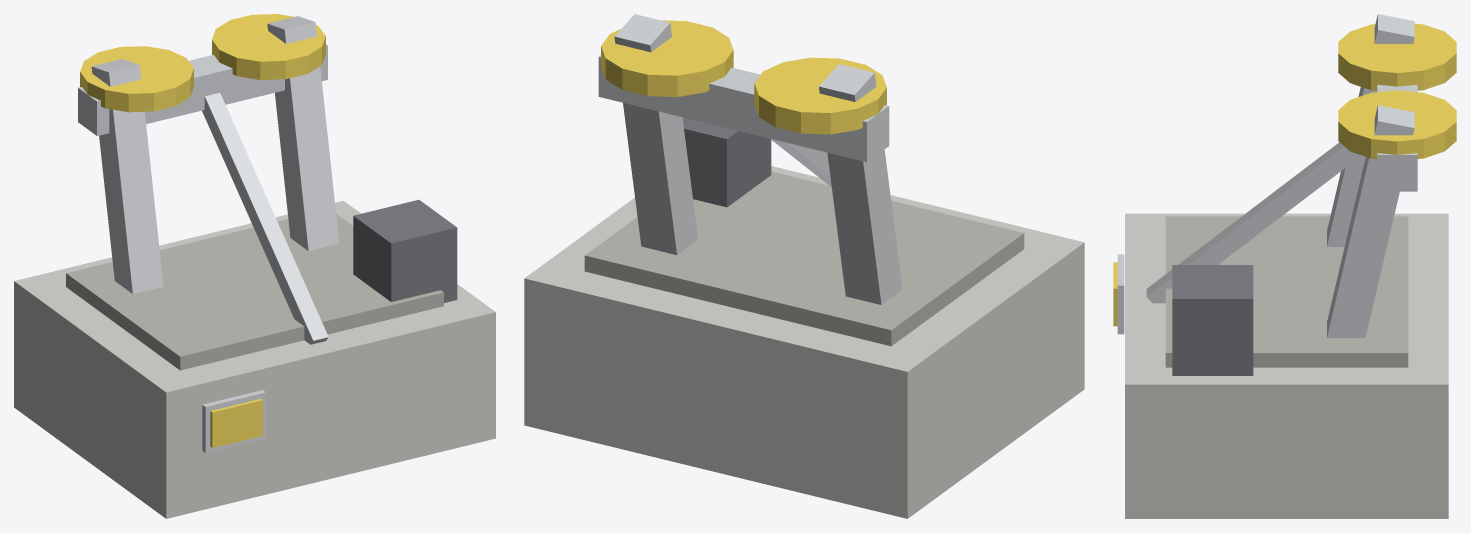
The model's file is rocket-launch-pad-and-gantry-catenary-anchor-41c0b25e__38178.glb.
3 views of the same model, side by side, from view 1: azimuth 30°, elevation 25°; view 2: azimuth 150°, elevation 25°; view 3: azimuth 270°, elevation 25° (orthographic). The views are drawn at different scales.
Visible parts, largest first — view 1: catenary-anchor; view 2: catenary-anchor; view 3: catenary-anchor.
Part boxes in pixels (<box>): catenary-anchor: <box>14,14,495,518</box>; catenary-anchor: <box>524,14,1084,518</box>; catenary-anchor: <box>1113,14,1456,518</box>.
Size of the model in its own units: 3 by 3 by 2.55.
